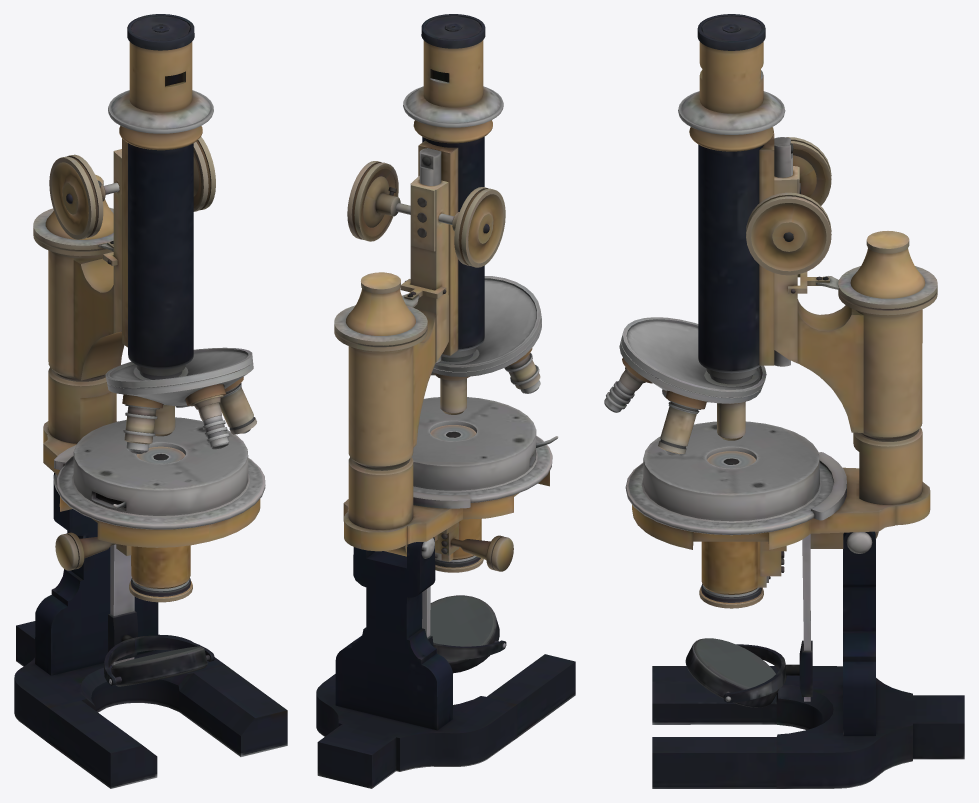
Rendered from vintage_microscope.glb.
The picture shows the model from 3 angles, left to right: view 1: azimuth 30°, elevation 25°; view 2: azimuth 150°, elevation 25°; view 3: azimuth 270°, elevation 25°; orthographic projection. The views are drawn at different scales.
Visible parts, largest first — view 1: vintage_microscope_mirror_arm, vintage_microscope_mirror_base; view 2: vintage_microscope_mirror_arm, vintage_microscope_mirror_base; view 3: vintage_microscope_mirror_arm, vintage_microscope_mirror_base.
Part boxes in pixels (box(x1,y1,x2,y2)): vintage_microscope_mirror_arm: box(14, 14, 287, 788); vintage_microscope_mirror_base: box(112, 646, 206, 686); vintage_microscope_mirror_arm: box(316, 14, 575, 788); vintage_microscope_mirror_base: box(430, 595, 495, 661); vintage_microscope_mirror_arm: box(604, 14, 964, 788); vintage_microscope_mirror_base: box(690, 638, 775, 707).
Size of the model in its own units: 0.1068 by 0.3996 by 0.1818.
2 materials, 2 textured.
